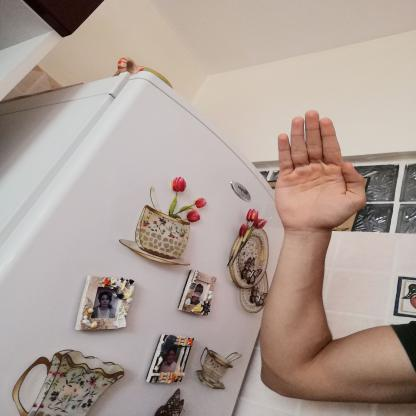SEEN: (264, 103, 375, 236)
